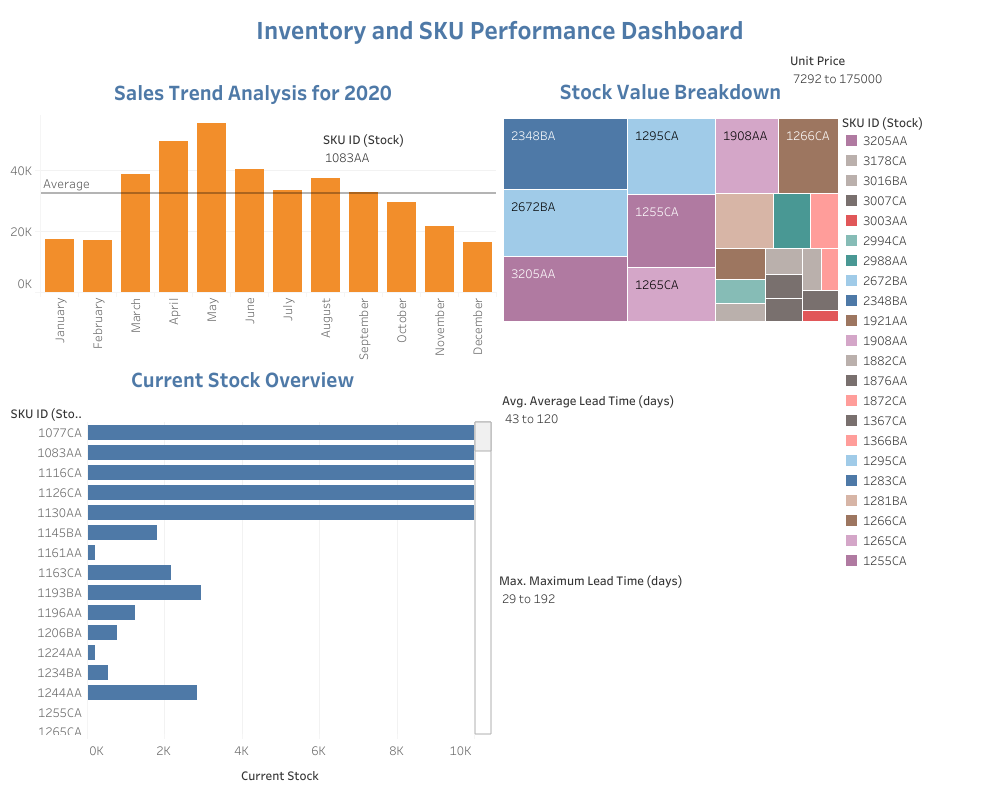

What the dashboard file says about the page in this screenshot:
{"tool":"tableau","page":{"name":"Inventory and SKU Performance Dashboard","canvas":[1000,800],"ordinal":0},"visuals":[{"type":"title","box":[8,8,984,42]},{"type":"filter","title":"Stock Value Breakdown","param":"[federated.17ze9f400jvbze1dfxsto025qe3g].[none:Unit Price:qk]","box":[790,50,137,68]},{"type":"worksheet","title":"Stock Value Breakdown","mark":"Automatic","box":[499,71,343,305]},{"type":"worksheet","title":"Sales Trend Analysis","mark":"Bar","rows":["Order Quantity"],"cols":["Order Date"],"box":[10,72,486,300]},{"type":"filter","title":"Sales Trend Analysis","param":"[federated.17ze9f400jvbze1dfxsto025qe3g].[none:SKU ID (Stock):nk]","box":[323,129,160,48]},{"type":"worksheet","title":"Current Stock Overview","mark":"Automatic","rows":["SKU ID (Stock)"],"cols":["Current Stock Quantity"],"box":[7,359,485,432]},{"type":"filter","title":"Current Stock Overview","param":"[federated.17ze9f400jvbze1dfxsto025qe3g].[avg:Average Lead Time (days):qk]","box":[502,390,324,174]},{"type":"filter","title":"Current Stock Overview","param":"[federated.17ze9f400jvbze1dfxsto025qe3g].[max:Maximum Lead Time (days):qk]","box":[499,570,333,163]}]}

Visuals, with their boxes in screenshot pixels (x1, y1, x2, y2), scaled from the page's 1000x800 canvas onto the 1000x800 screenshot:
title: x1=8, y1=8, x2=992, y2=50
"Stock Value Breakdown" filter: x1=790, y1=50, x2=927, y2=118
"Stock Value Breakdown" worksheet: x1=499, y1=71, x2=842, y2=376
"Sales Trend Analysis" worksheet (Bar marks): x1=10, y1=72, x2=496, y2=372
"Sales Trend Analysis" filter: x1=323, y1=129, x2=483, y2=177
"Current Stock Overview" worksheet: x1=7, y1=359, x2=492, y2=791
"Current Stock Overview" filter: x1=502, y1=390, x2=826, y2=564
"Current Stock Overview" filter: x1=499, y1=570, x2=832, y2=733
